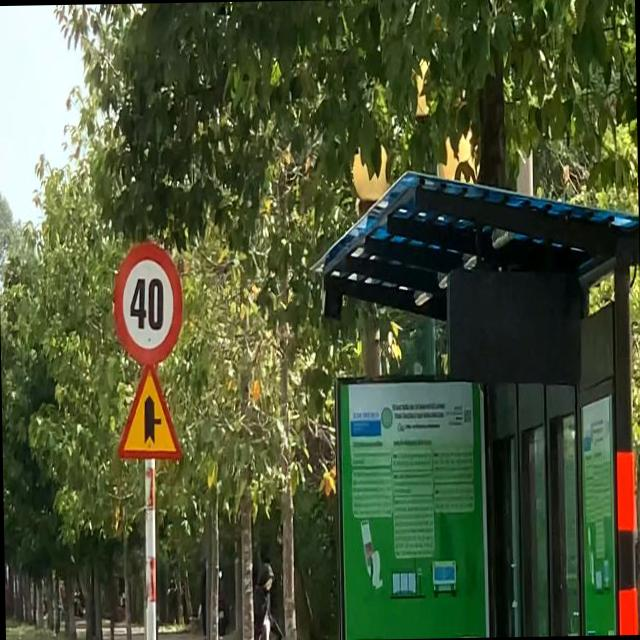P-127: (112, 240, 182, 364)
W-207b: (114, 363, 181, 463)
